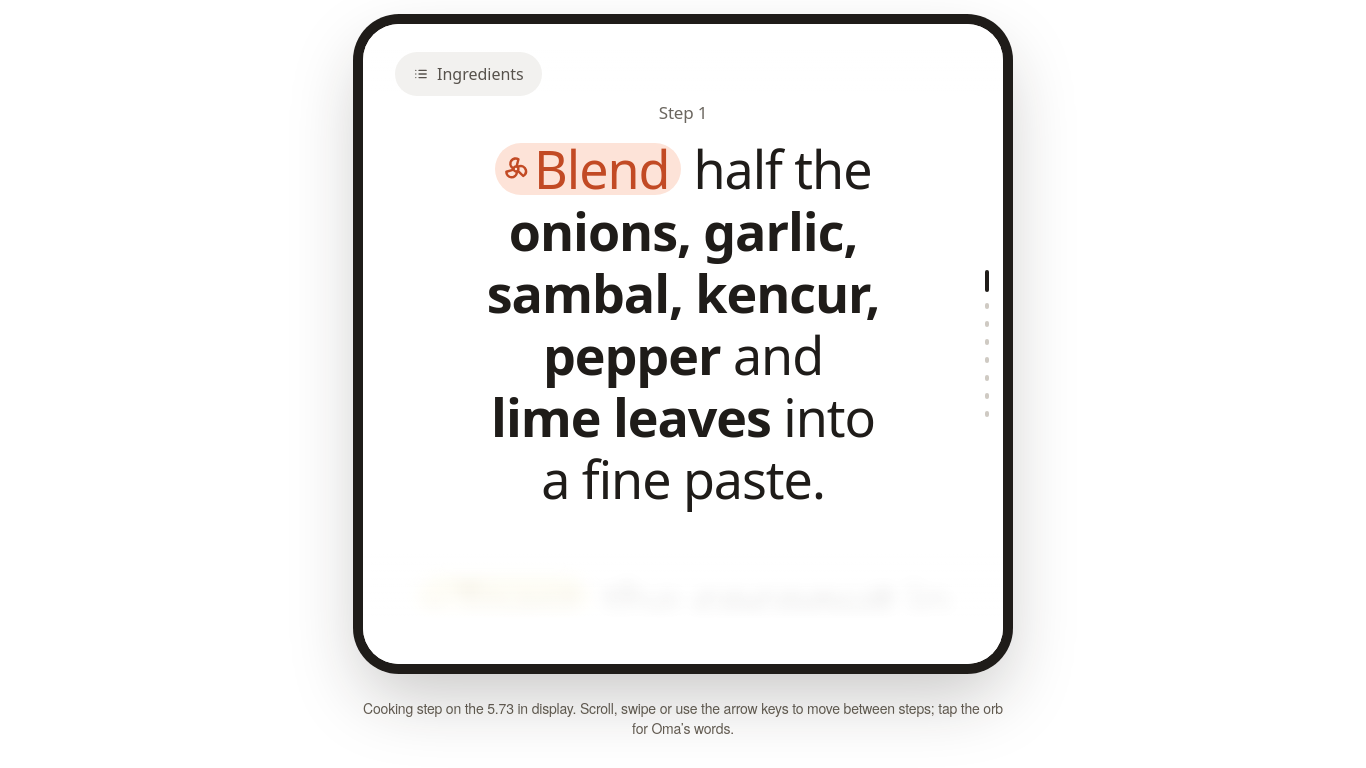
Test case: CookingStepBoard › opens the ingredients pop-up, which blocks step changes and closes with Done, the backdrop or Escape
Click the button "Ingredients" at (468, 74), box [395,52,542,96]
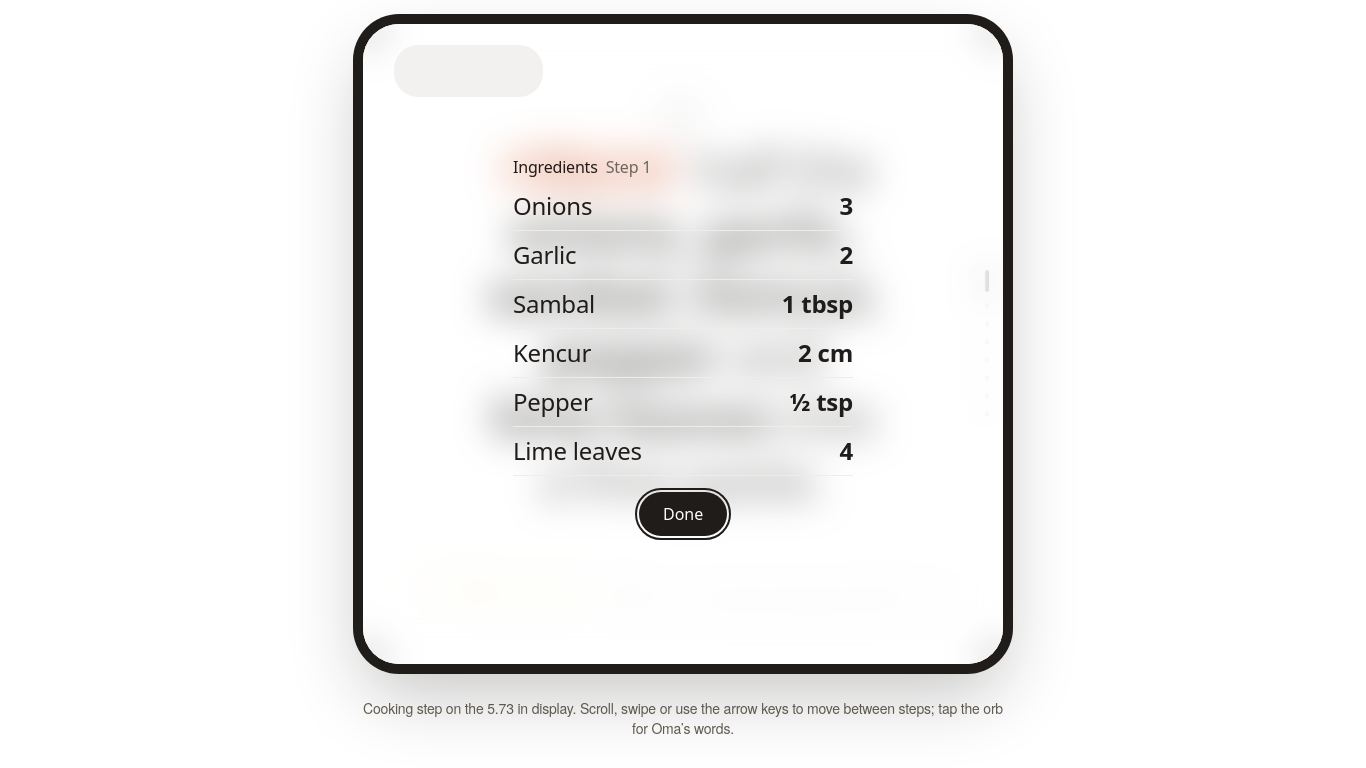
Expected: the list item "Lime leaves" reads "Lime leaves 4", [513,427,853,476]
Press ArrowDown in the element named "Oma Lien’s recipe, step 1 of 8", box [363,24,1003,664]
Press the mouse on the element named "Oma Lien’s recipe, step 1 of 8" at (683, 344), box [363,24,1003,664]
Expected: the element with class "cs-step" shows "Step 1", [487,133,879,514]
Click the button "Done" at (683, 514), box [639,492,727,536]
Wait 600 ms
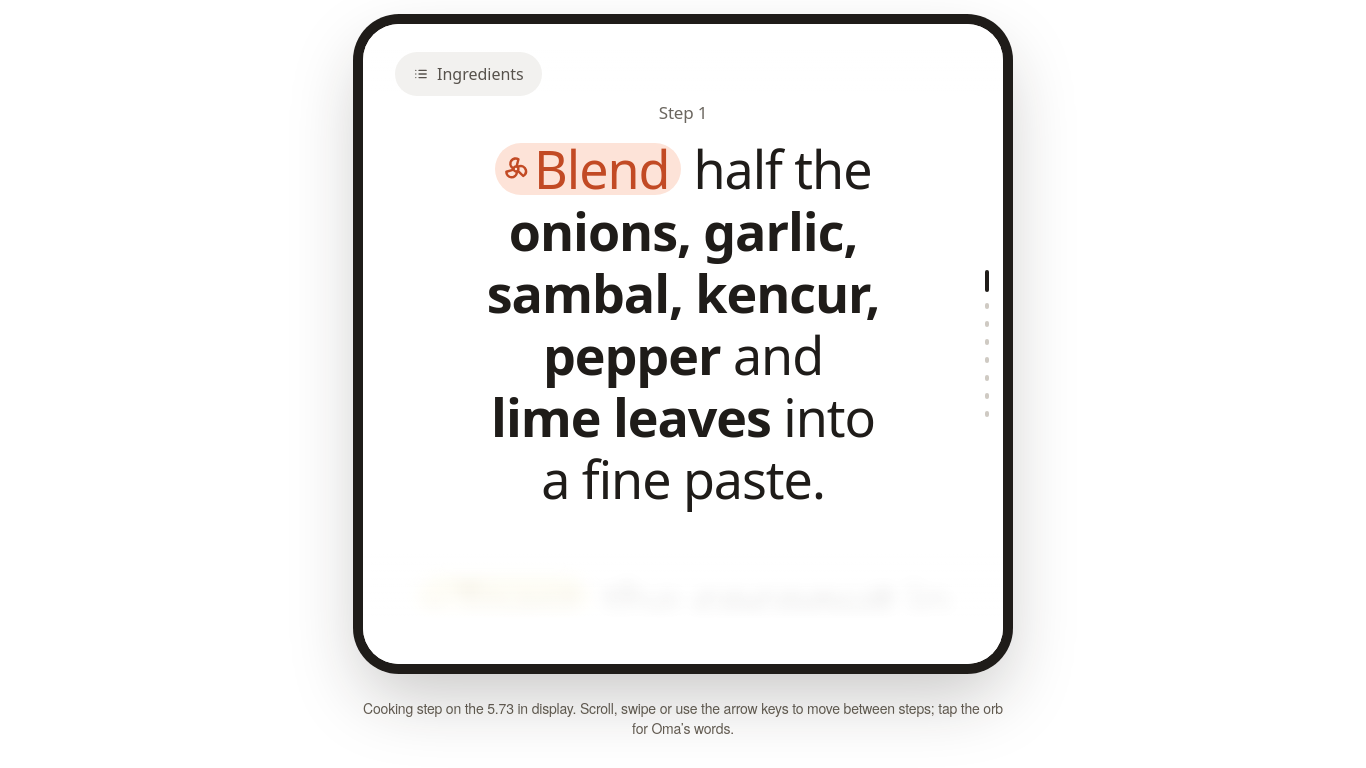
Expected: the dialog is gone
Expected: the element with class "cs-pop" is gone
Click the button "Ingredients" at (468, 74), box [395,52,542,96]
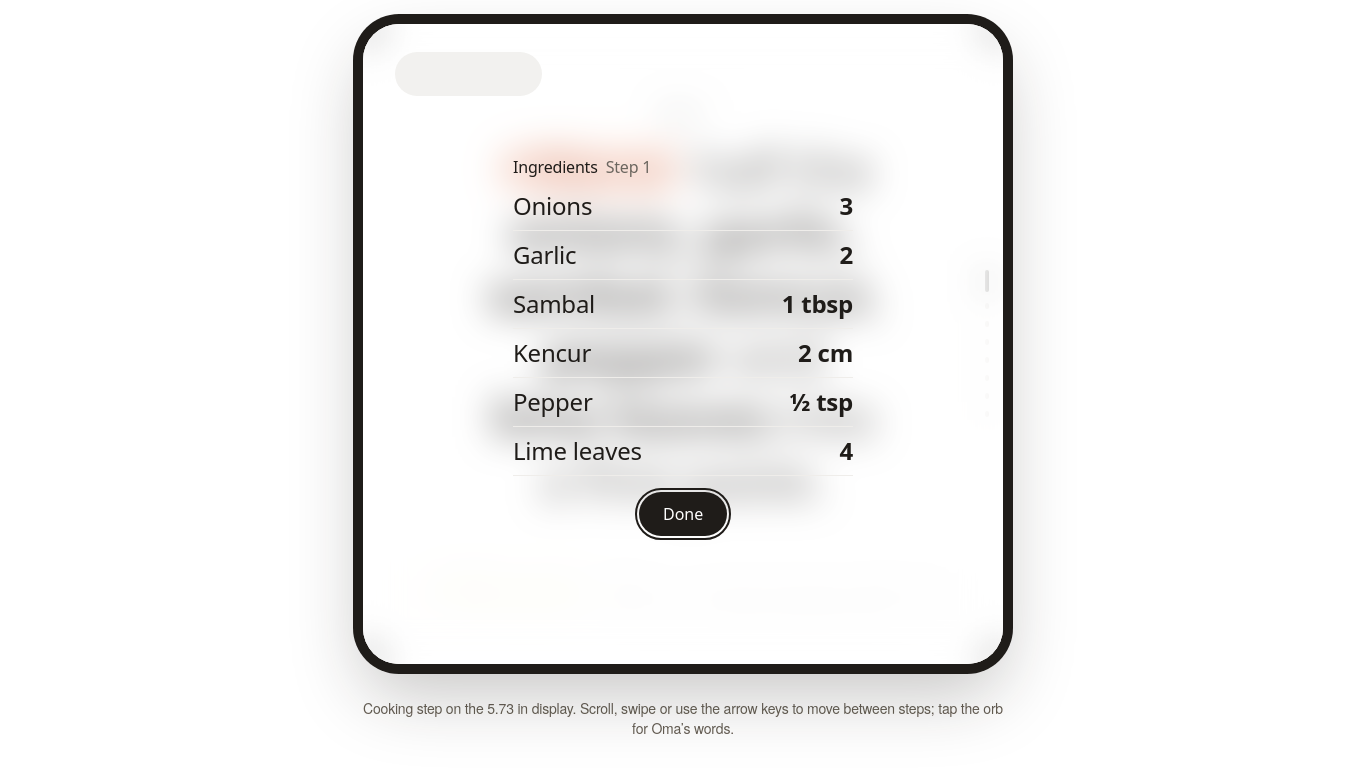
Click the button named "Close ingredients" at (401, 344), box [363,24,1003,664]
Wait 600 ms
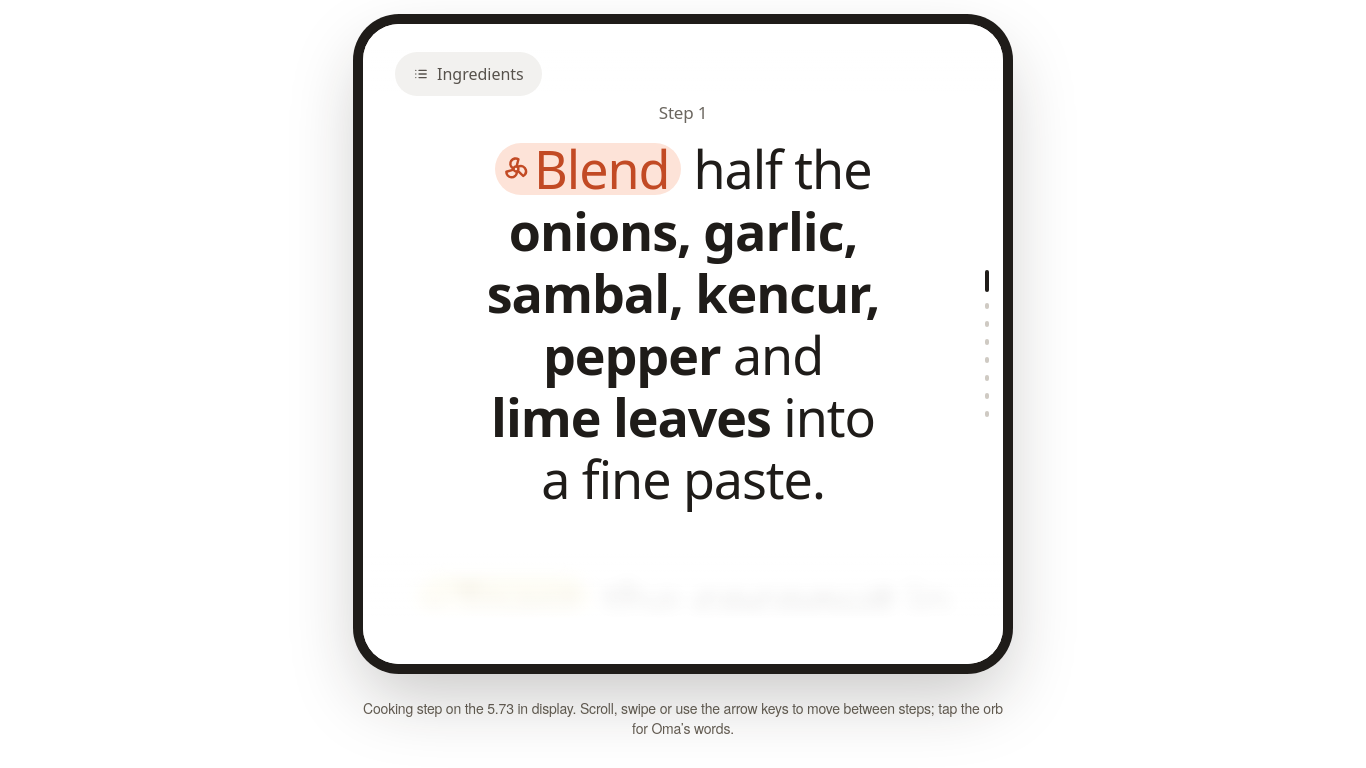
Expected: the dialog is gone
Expected: the element with class "cs-pop" is gone
Click the button "Ingredients" at (468, 74), box [395,52,542,96]
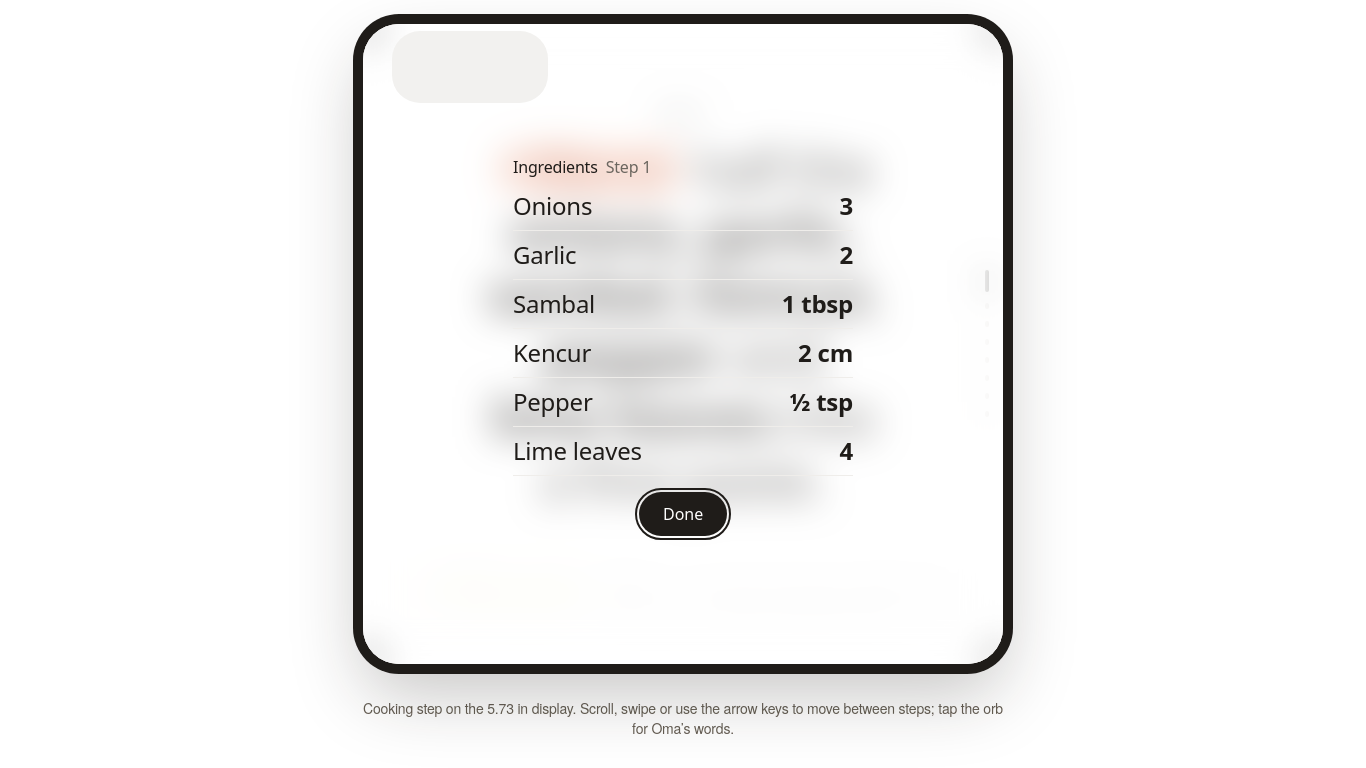
Press Escape in the element named "Oma Lien’s recipe, step 1 of 8", box [363,24,1003,664]
Wait 600 ms
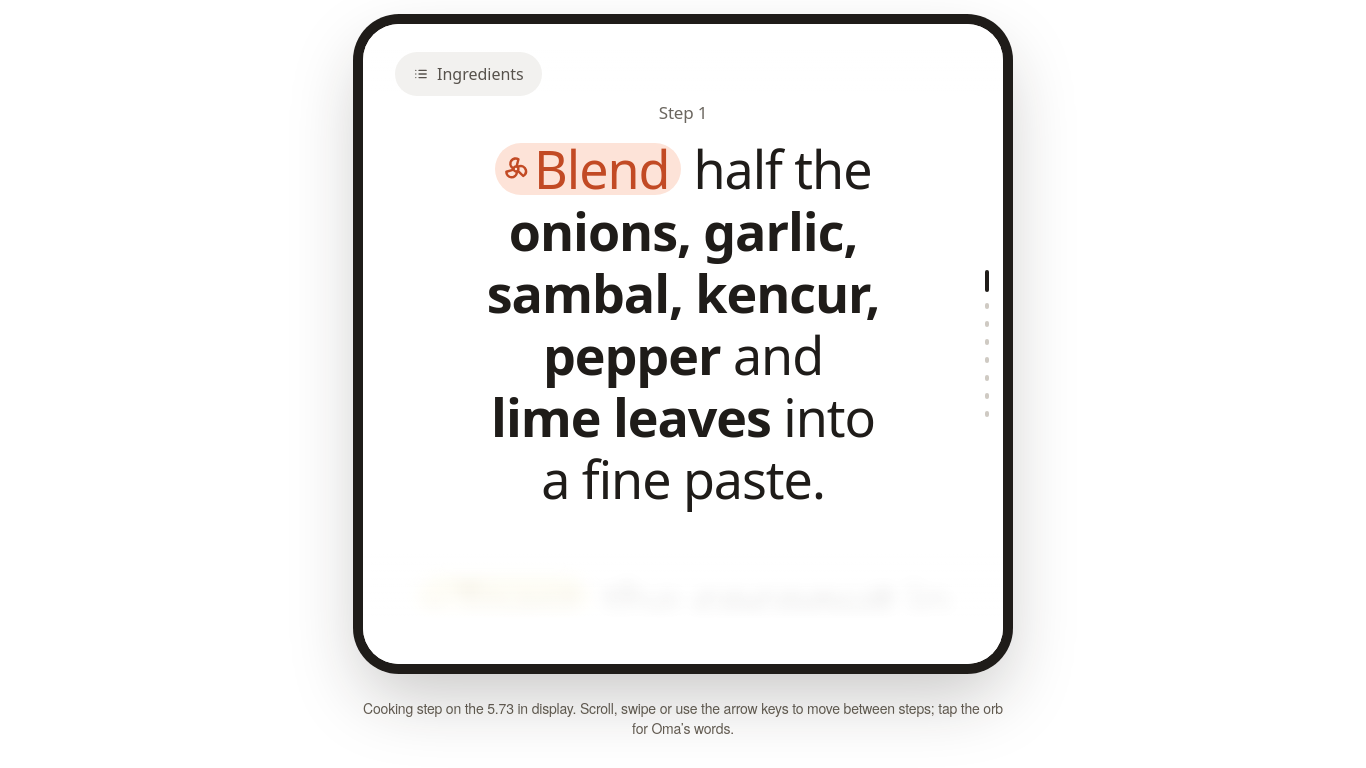
Expected: the dialog is gone
Expected: the element with class "cs-pop" is gone
